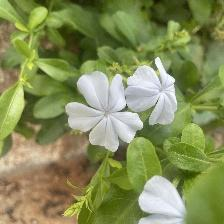chitrak: (70, 70, 142, 153), (127, 56, 179, 131)
